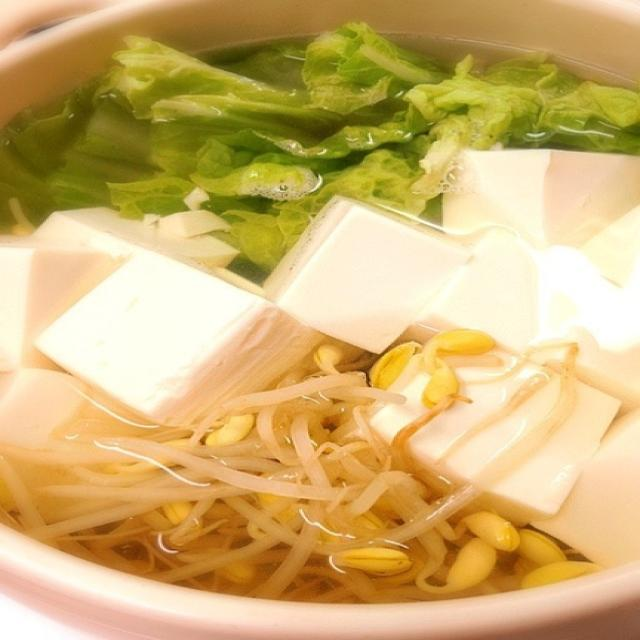豆腐料理: (8, 10, 631, 629)
